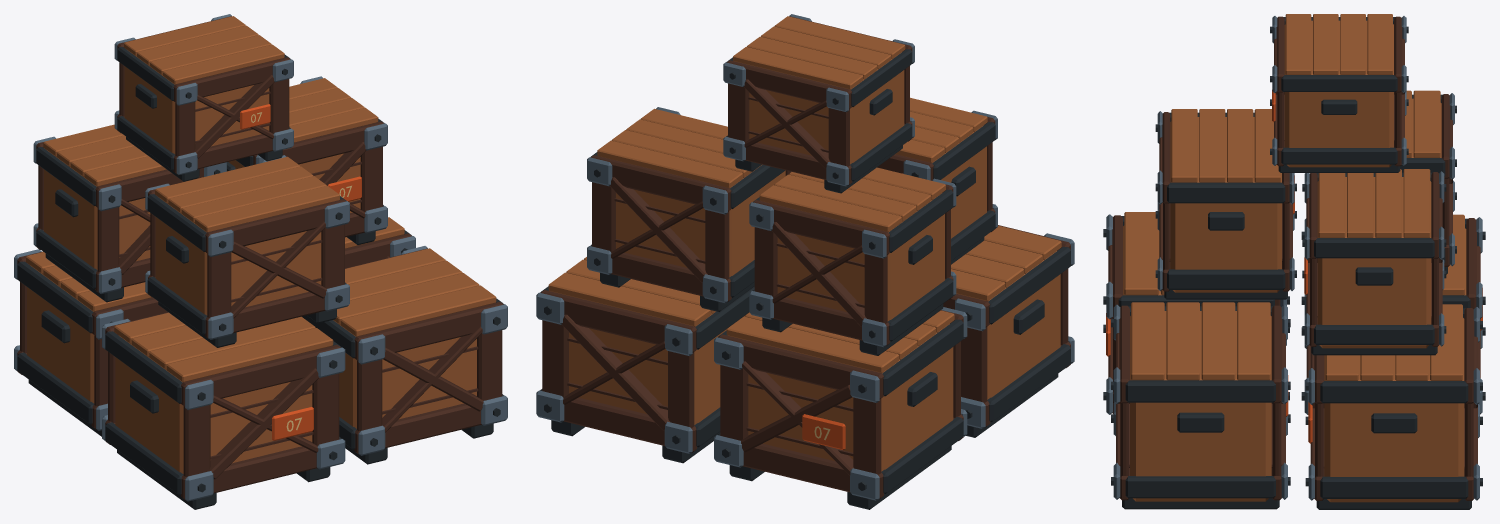
The model's file is e12h-dormant-haul-stack.glb.
The picture shows the model from 3 angles, left to right: view 1: azimuth 30°, elevation 25°; view 2: azimuth 150°, elevation 25°; view 3: azimuth 270°, elevation 25°; orthographic projection. The views are drawn at different scales.
Parts seen in each view (by area): view 1: Tier 1 | haul crate 1, Tier 2 | haul crate 1, Tier 1 | haul crate 2, Tier 3 | haul crate 1, Tier 2 | haul crate 3, Tier 1 | haul crate 3, Tier 2 | haul crate 2, Tier 1 | haul crate 4; view 2: Tier 1 | haul crate 3, Tier 2 | haul crate 3, Tier 1 | haul crate 4, Tier 2 | haul crate 2, Tier 3 | haul crate 1, Tier 1 | haul crate 1, Tier 2 | haul crate 1; view 3: Tier 1 | haul crate 2, Tier 1 | haul crate 4, Tier 2 | haul crate 2, Tier 2 | haul crate 1, Tier 3 | haul crate 1, Tier 1 | haul crate 1, Tier 2 | haul crate 3, Tier 1 | haul crate 3.
Part boxes in pixels (left/top/right/bottom): Tier 1 | haul crate 1: left=102, top=312, right=345, bottom=509; Tier 2 | haul crate 1: left=145, top=155, right=349, bottom=347; Tier 1 | haul crate 2: left=302, top=246, right=507, bottom=464; Tier 3 | haul crate 1: left=114, top=14, right=293, bottom=181; Tier 2 | haul crate 3: left=33, top=124, right=226, bottom=302; Tier 1 | haul crate 3: left=14, top=249, right=167, bottom=436; Tier 2 | haul crate 2: left=227, top=76, right=387, bottom=244; Tier 1 | haul crate 4: left=345, top=217, right=415, bottom=268; Tier 1 | haul crate 3: left=714, top=307, right=967, bottom=509; Tier 2 | haul crate 3: left=749, top=167, right=956, bottom=355; Tier 1 | haul crate 4: left=536, top=257, right=754, bottom=463; Tier 2 | haul crate 2: left=587, top=107, right=791, bottom=311; Tier 3 | haul crate 1: left=723, top=14, right=914, bottom=193; Tier 1 | haul crate 1: left=943, top=225, right=1074, bottom=437; Tier 2 | haul crate 1: left=877, top=97, right=997, bottom=264; Tier 1 | haul crate 2: left=1111, top=302, right=1290, bottom=509; Tier 1 | haul crate 4: left=1305, top=304, right=1482, bottom=509; Tier 2 | haul crate 2: left=1302, top=169, right=1446, bottom=355; Tier 2 | haul crate 1: left=1155, top=109, right=1296, bottom=299; Tier 3 | haul crate 1: left=1270, top=14, right=1408, bottom=172; Tier 1 | haul crate 1: left=1103, top=212, right=1289, bottom=414; Tier 2 | haul crate 3: left=1400, top=90, right=1456, bottom=274; Tier 1 | haul crate 3: left=1301, top=214, right=1485, bottom=414.
Bounding box in the file's own units: 5.88 × 6 × 5.57.
